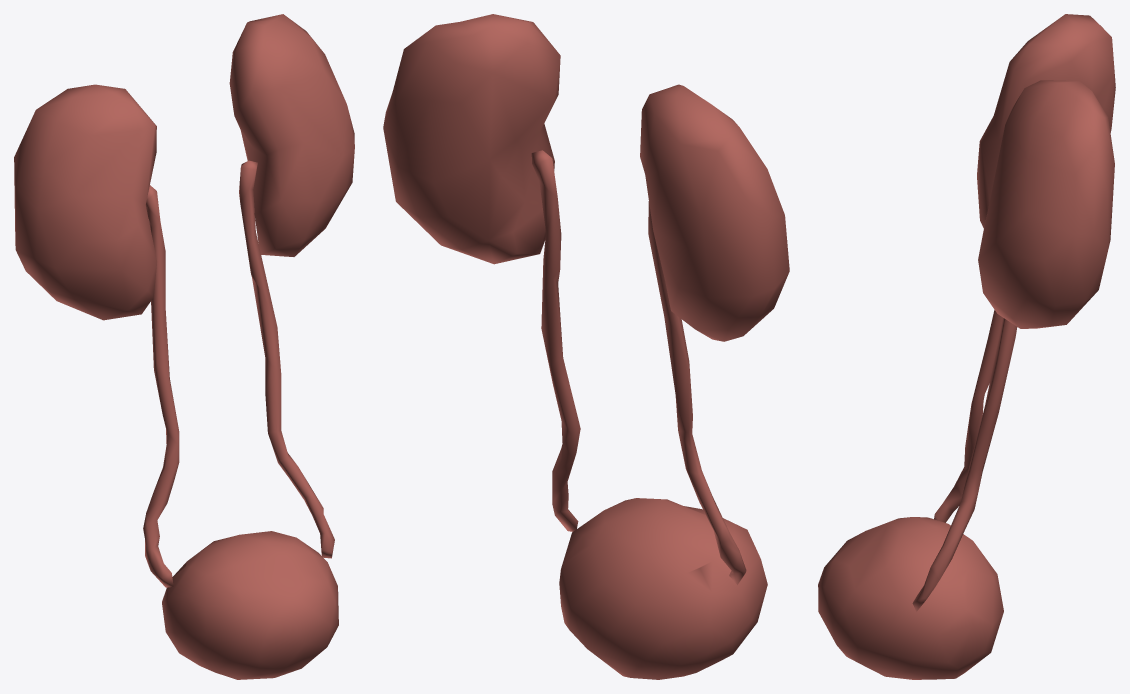
The model's file is pediatric_child_5y_female.urinary.LOD2.glb.
The picture shows the model from 3 angles, left to right: view 1: azimuth 30°, elevation 25°; view 2: azimuth 150°, elevation 25°; view 3: azimuth 270°, elevation 25°; orthographic projection. The views are drawn at different scales.
Parts seen in each view (by area): view 1: PEDIATRIC.CHILD_5Y.FEMALE.URINARY.KIDNEY_CORTEX.R, PEDIATRIC.CHILD_5Y.FEMALE.URINARY.KIDNEY_CORTEX.L, PEDIATRIC.CHILD_5Y.FEMALE.URINARY.URINARY_BLADDER_WALL, PEDIATRIC.CHILD_5Y.FEMALE.URINARY.URETER.L, PEDIATRIC.CHILD_5Y.FEMALE.URINARY.URETER.R; view 2: PEDIATRIC.CHILD_5Y.FEMALE.URINARY.KIDNEY_CORTEX.L, PEDIATRIC.CHILD_5Y.FEMALE.URINARY.URINARY_BLADDER_WALL, PEDIATRIC.CHILD_5Y.FEMALE.URINARY.KIDNEY_CORTEX.R, PEDIATRIC.CHILD_5Y.FEMALE.URINARY.URETER.L, PEDIATRIC.CHILD_5Y.FEMALE.URINARY.URETER.R; view 3: PEDIATRIC.CHILD_5Y.FEMALE.URINARY.KIDNEY_CORTEX.L, PEDIATRIC.CHILD_5Y.FEMALE.URINARY.URINARY_BLADDER_WALL, PEDIATRIC.CHILD_5Y.FEMALE.URINARY.KIDNEY_CORTEX.R, PEDIATRIC.CHILD_5Y.FEMALE.URINARY.URETER.L, PEDIATRIC.CHILD_5Y.FEMALE.URINARY.URETER.R.
Part boxes in pixels (<box>): PEDIATRIC.CHILD_5Y.FEMALE.URINARY.KIDNEY_CORTEX.R: <box>14,84,156,320</box>; PEDIATRIC.CHILD_5Y.FEMALE.URINARY.KIDNEY_CORTEX.L: <box>229,14,354,256</box>; PEDIATRIC.CHILD_5Y.FEMALE.URINARY.URINARY_BLADDER_WALL: <box>162,531,338,679</box>; PEDIATRIC.CHILD_5Y.FEMALE.URINARY.URETER.L: <box>239,160,334,558</box>; PEDIATRIC.CHILD_5Y.FEMALE.URINARY.URETER.R: <box>143,185,179,587</box>; PEDIATRIC.CHILD_5Y.FEMALE.URINARY.KIDNEY_CORTEX.L: <box>383,14,560,264</box>; PEDIATRIC.CHILD_5Y.FEMALE.URINARY.URINARY_BLADDER_WALL: <box>559,498,767,679</box>; PEDIATRIC.CHILD_5Y.FEMALE.URINARY.KIDNEY_CORTEX.R: <box>640,84,789,341</box>; PEDIATRIC.CHILD_5Y.FEMALE.URINARY.URETER.L: <box>531,150,580,531</box>; PEDIATRIC.CHILD_5Y.FEMALE.URINARY.URETER.R: <box>648,201,746,584</box>; PEDIATRIC.CHILD_5Y.FEMALE.URINARY.KIDNEY_CORTEX.L: <box>978,80,1114,328</box>; PEDIATRIC.CHILD_5Y.FEMALE.URINARY.URINARY_BLADDER_WALL: <box>818,517,1003,679</box>; PEDIATRIC.CHILD_5Y.FEMALE.URINARY.KIDNEY_CORTEX.R: <box>977,14,1115,228</box>; PEDIATRIC.CHILD_5Y.FEMALE.URINARY.URETER.L: <box>912,318,1017,611</box>; PEDIATRIC.CHILD_5Y.FEMALE.URINARY.URETER.R: <box>934,310,1002,522</box>.
Bounding box in the file's own units: 0.1233 × 0.2083 × 0.0893.
